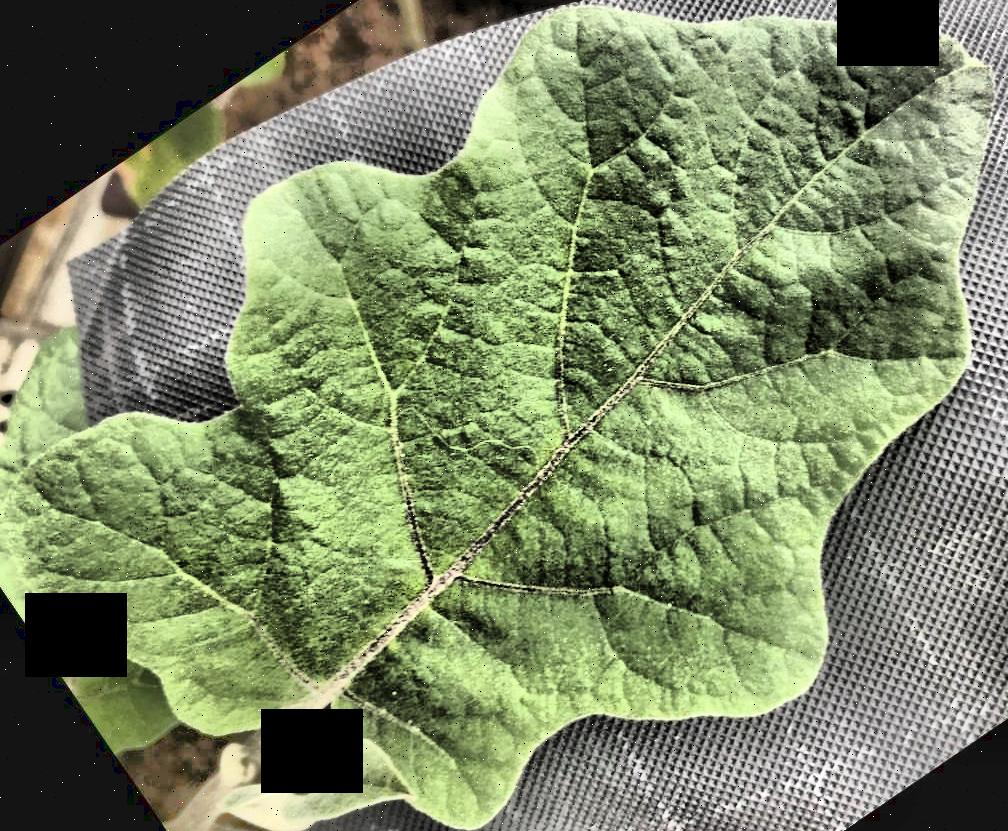HEALTHY: (1, 1, 1008, 831)
